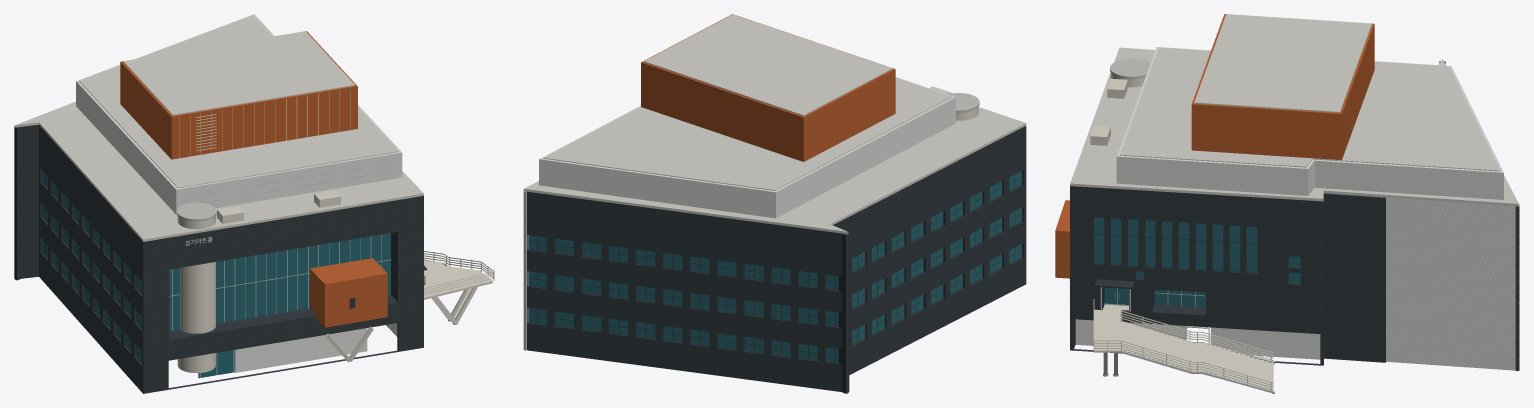
The picture shows the model from 3 angles, left to right: view 1: azimuth 30°, elevation 25°; view 2: azimuth 150°, elevation 25°; view 3: azimuth 270°, elevation 25°; orthographic projection. The views are drawn at different scales.
Visible parts, largest first — view 1: dark, artRoof, orange, white, artglass, cream (×2), blackroof, frame (×2); view 2: dark, artRoof, artglass, white, orange; view 3: artRoof, dark, white, orange, cream, artglass, blackroof, frame (×2).
Part boxes in pixels (bbox=[...]): dark: bbox=[14, 125, 426, 393]; artRoof: bbox=[15, 15, 423, 241]; orange: bbox=[120, 31, 387, 327]; white: bbox=[76, 14, 402, 372]; artglass: bbox=[42, 170, 390, 378]; cream (×2): bbox=[177, 88, 494, 373]; blackroof: bbox=[143, 201, 423, 361]; frame (×2): bbox=[169, 161, 482, 377]; dark: bbox=[527, 126, 1026, 393]; artRoof: bbox=[523, 14, 1026, 234]; artglass: bbox=[528, 171, 1021, 363]; white: bbox=[523, 77, 955, 350]; orange: bbox=[641, 14, 895, 161]; artRoof: bbox=[1070, 14, 1519, 206]; dark: bbox=[1070, 61, 1519, 371]; white: bbox=[1075, 47, 1519, 370]; orange: bbox=[1055, 14, 1374, 278]; cream: bbox=[1090, 18, 1273, 392]; artglass: bbox=[1094, 217, 1300, 307]; blackroof: bbox=[1069, 191, 1385, 355]; frame (×2): bbox=[1100, 58, 1519, 393].
Bounding box in the file's own units: 37.74 × 23.7 × 41.24.
10 materials, 1 textured.
